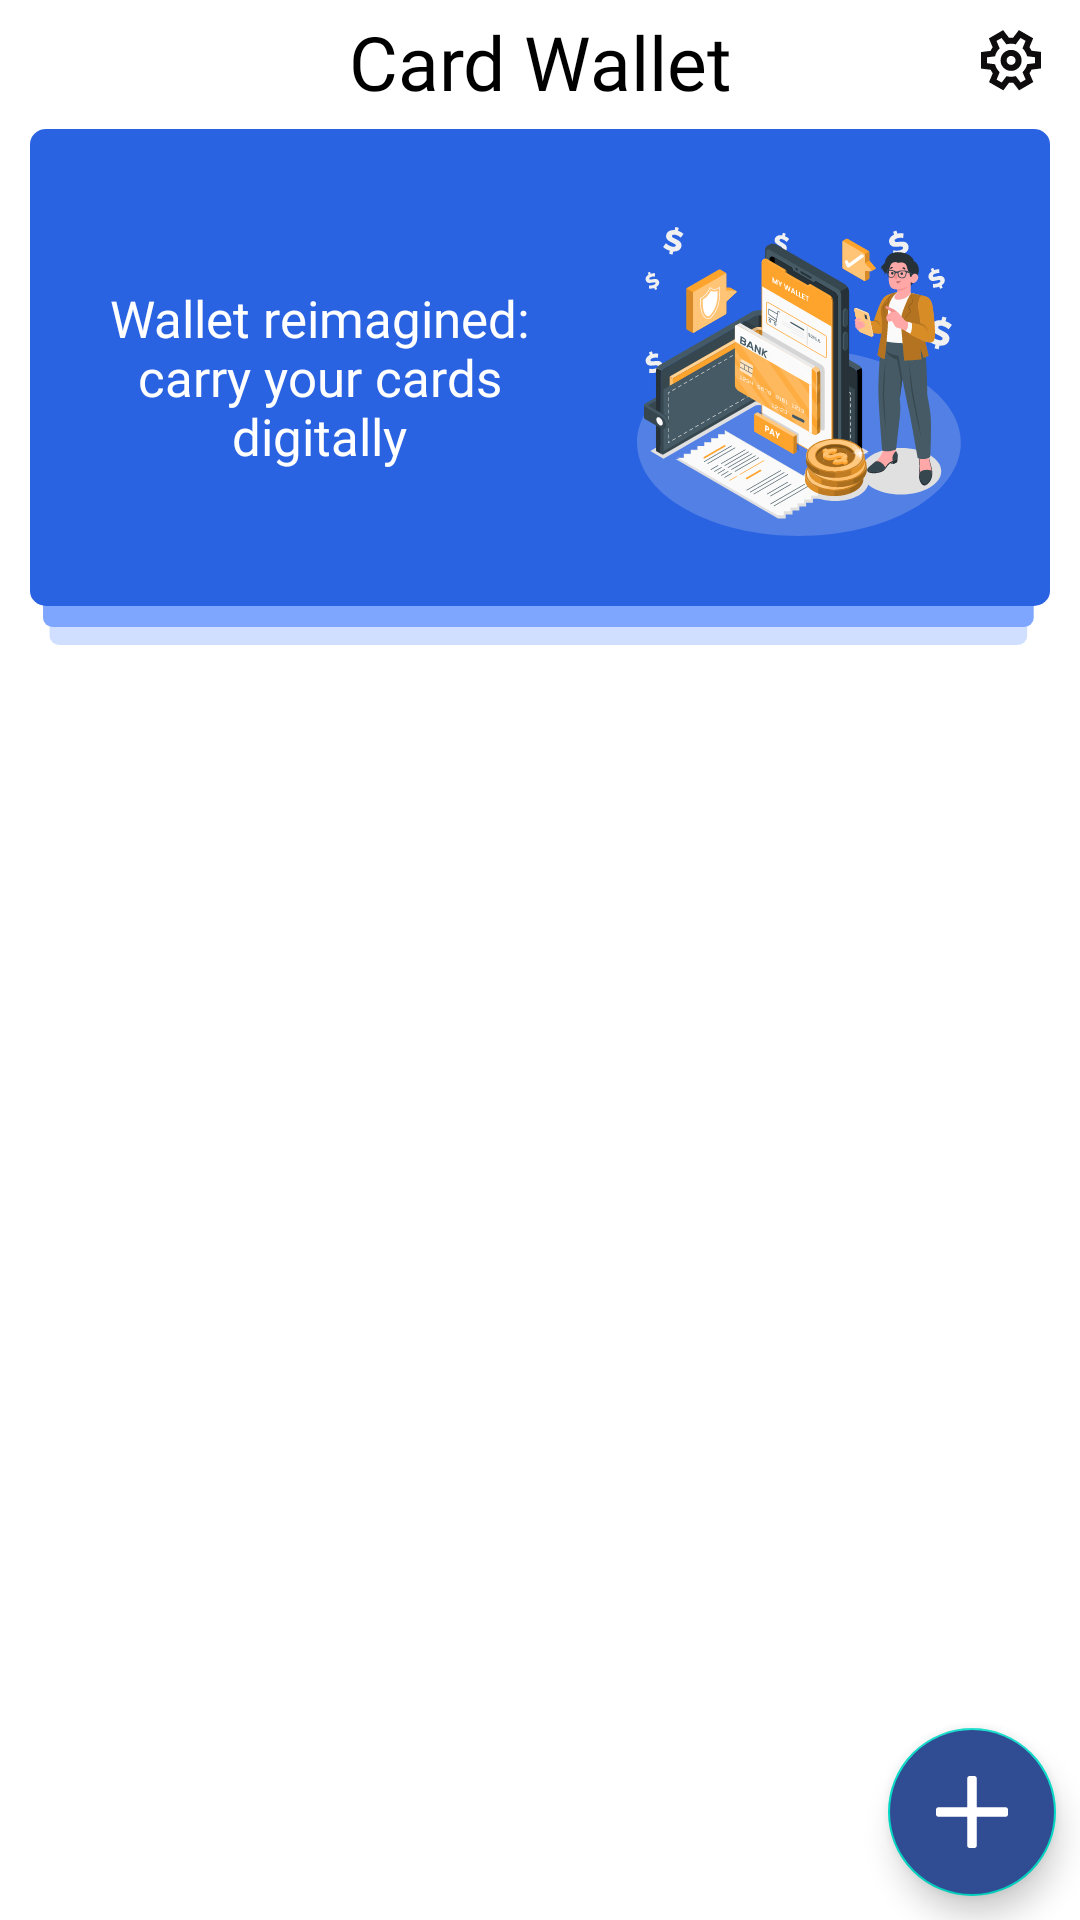

Icon click points for this 1080px x 1920px phone screenshot, format [x,y]:
settings: [1011,60]
